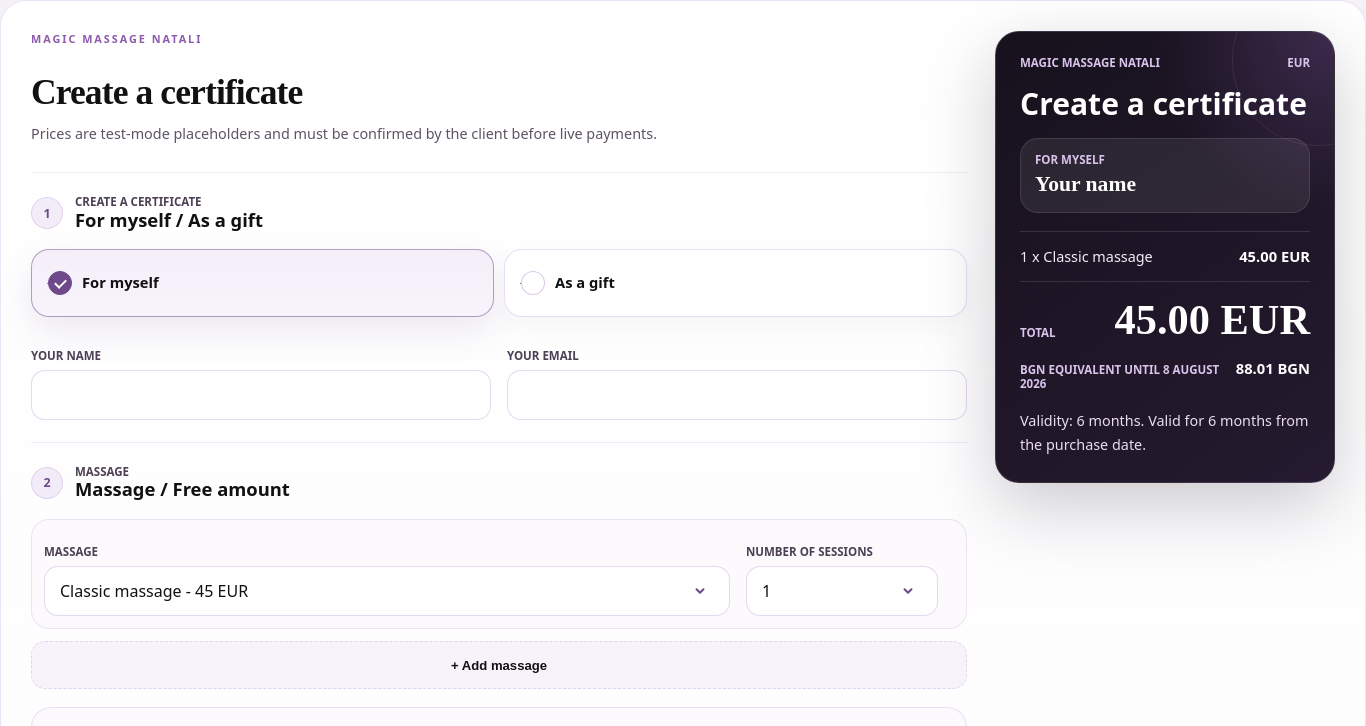
GiftCertificateForm › shows recipient email only for automatic delivery
This screenshot has width=1366, height=726.
Click the radio button labelled "As a gift": (585, 282) [504,249,967,317]
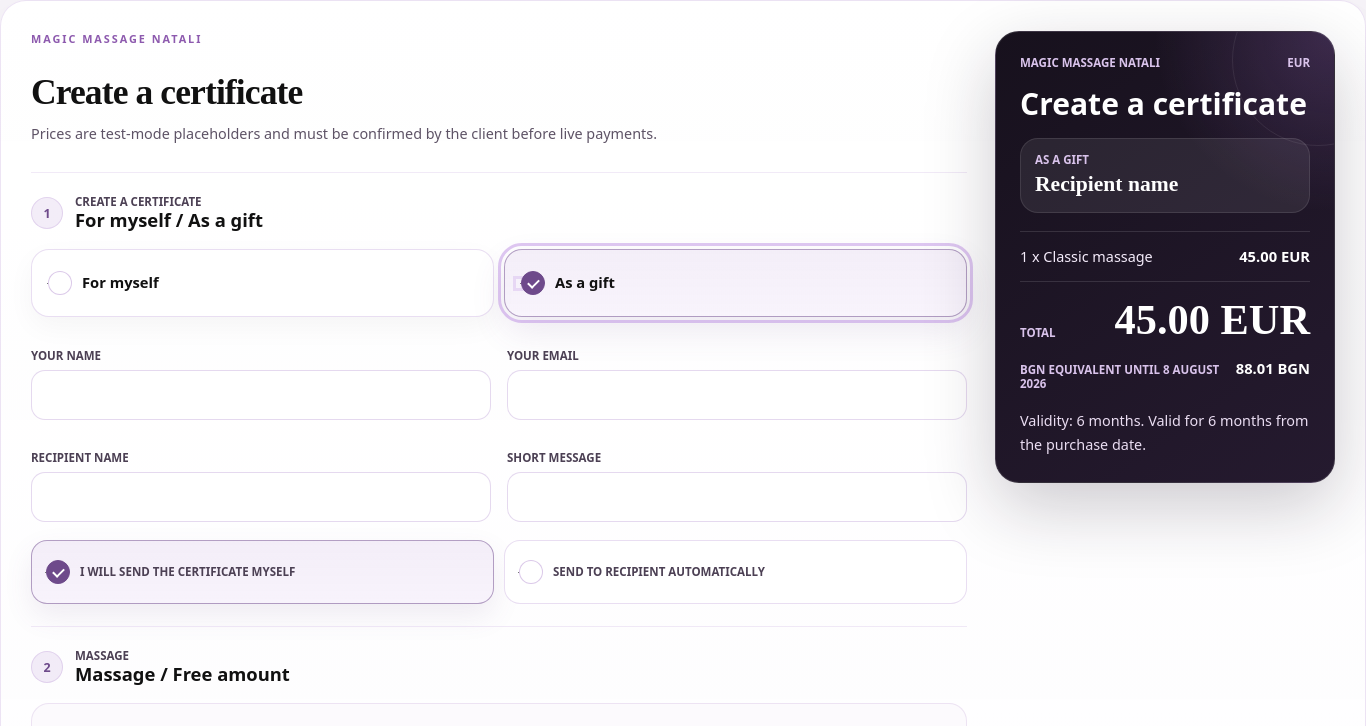
Check: the field labelled "Recipient email" is not shown
Check: the element named "Choose certificate delivery" is shown, box [31,540,967,604]
Click the radio button labelled "Send to recipient automatically": (736, 572) [504,540,967,604]
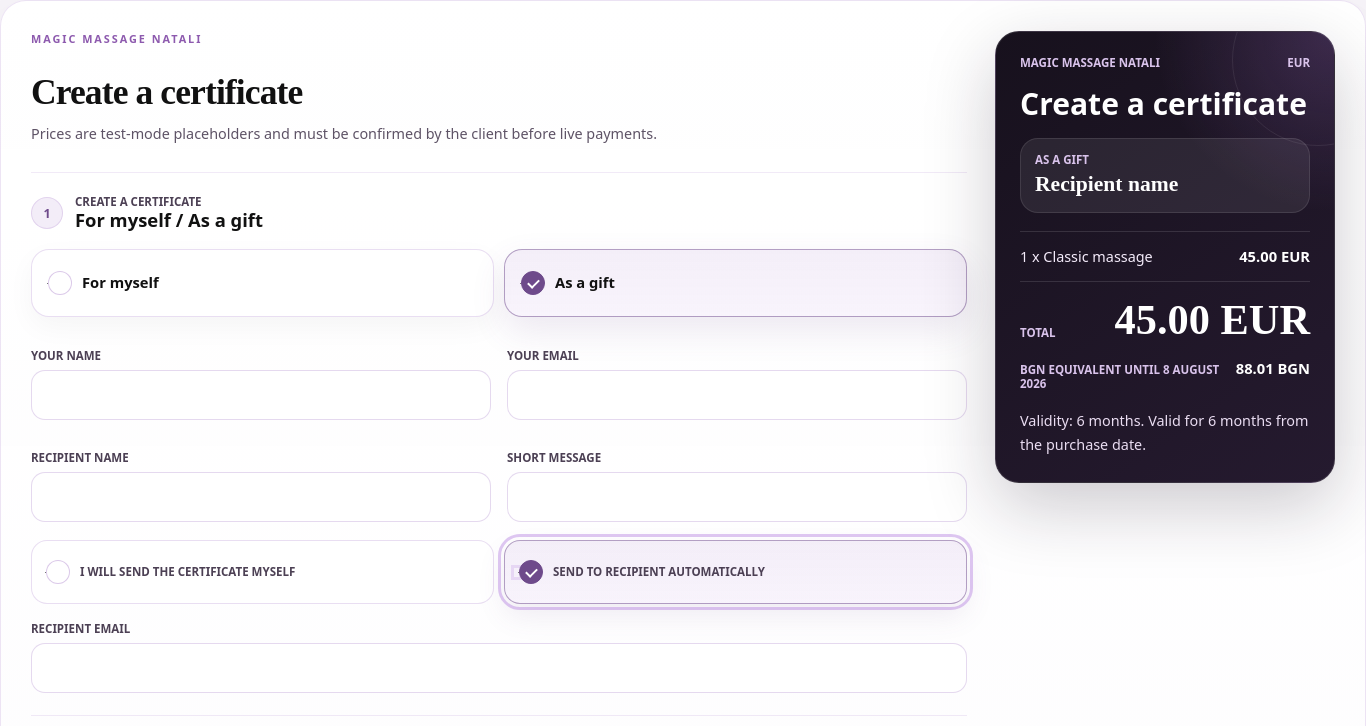
Check: the field labelled "Recipient email" is shown, box [31,643,967,693]
